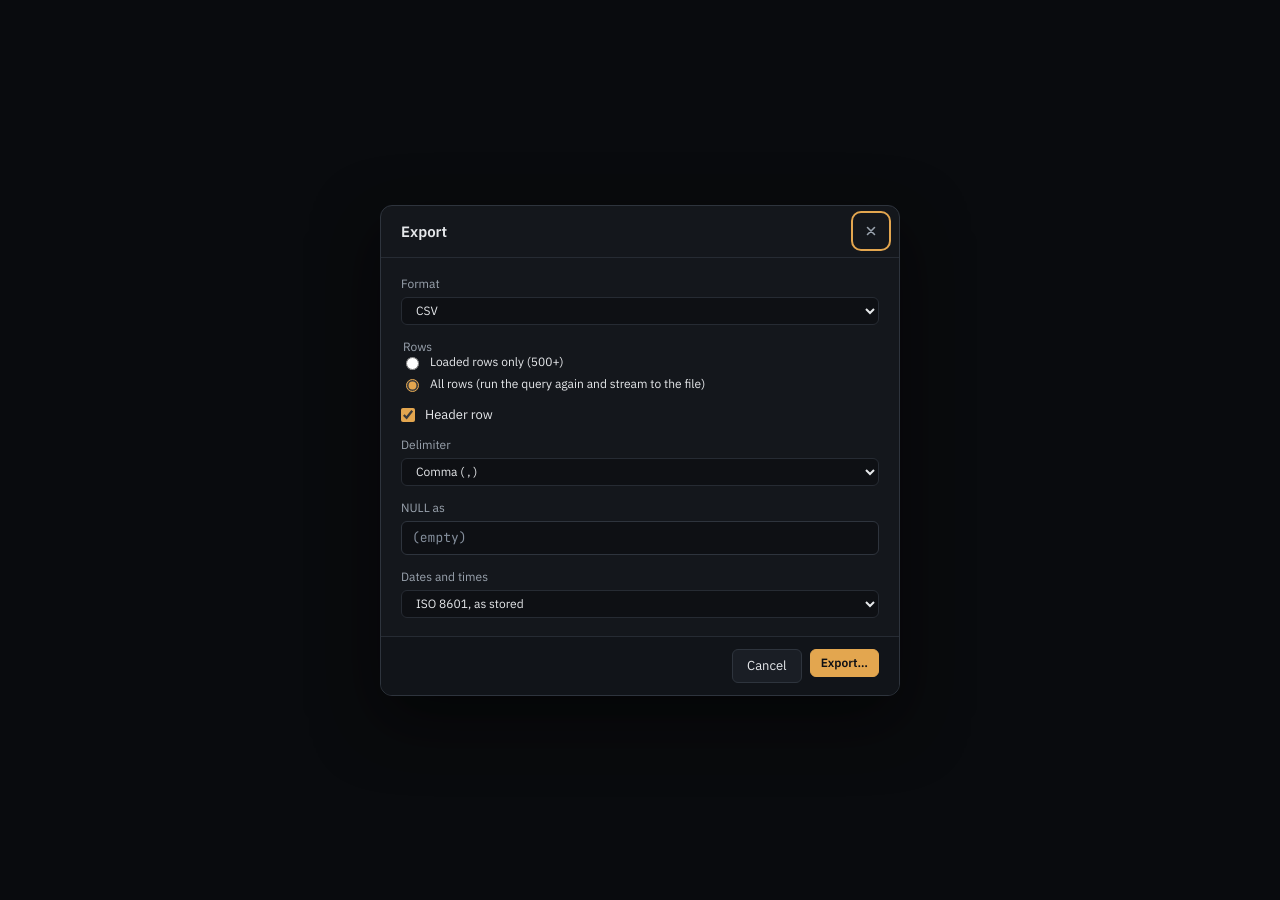
Test case: ExportDialog › defaults to all rows when the server has more, and exports the whole query
Check: the radio button labelled "All rows (run the query again and stream to the file)" is checked, box [406,378,419,392]
Click the button "Export…" at (844, 662), box [810,648,879,676]
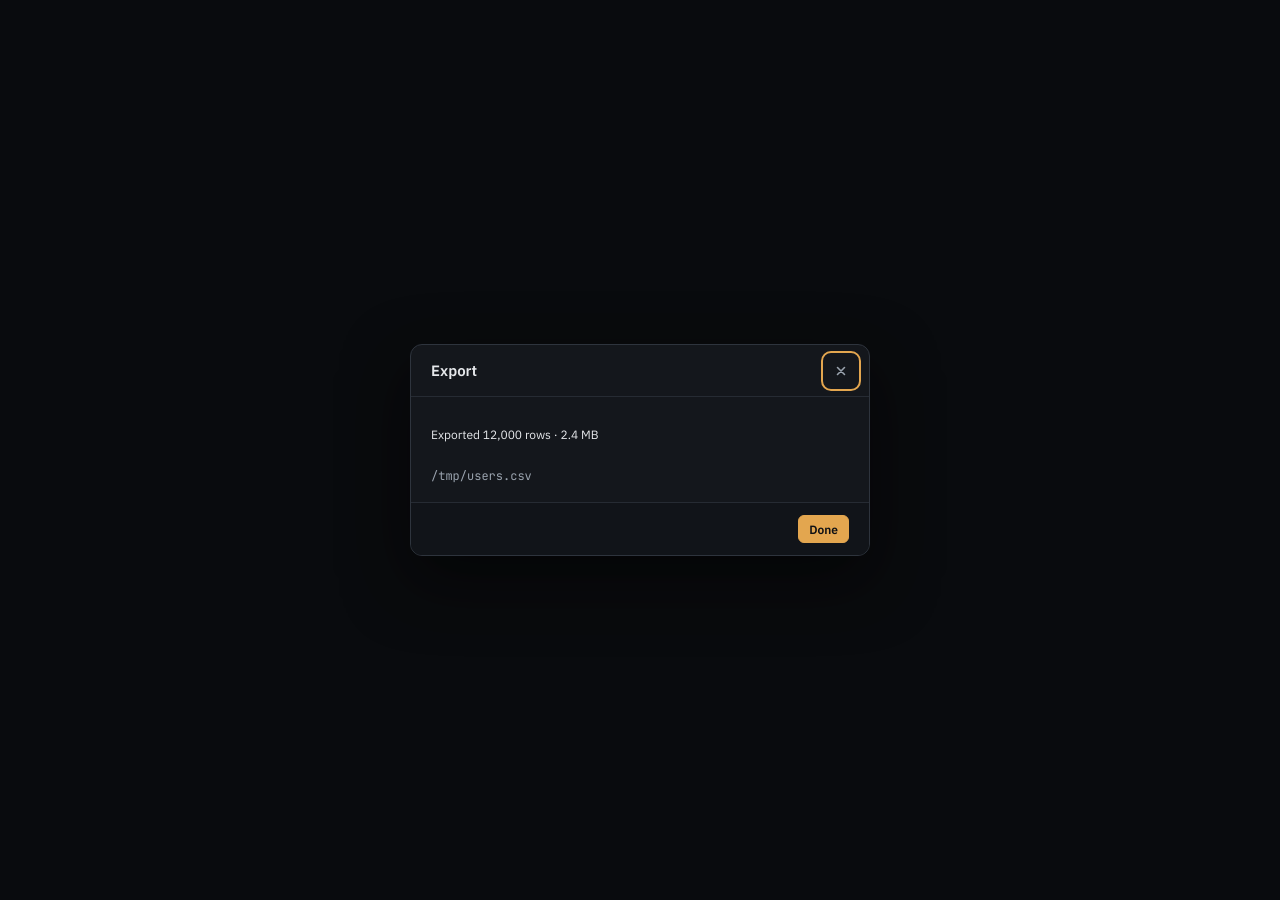
Check: the message reads "Exported 12,000 rows · 2.4 MB", box [431,427,599,442]
Check: the text "/tmp/users.csv" is shown, box [431,468,532,484]
